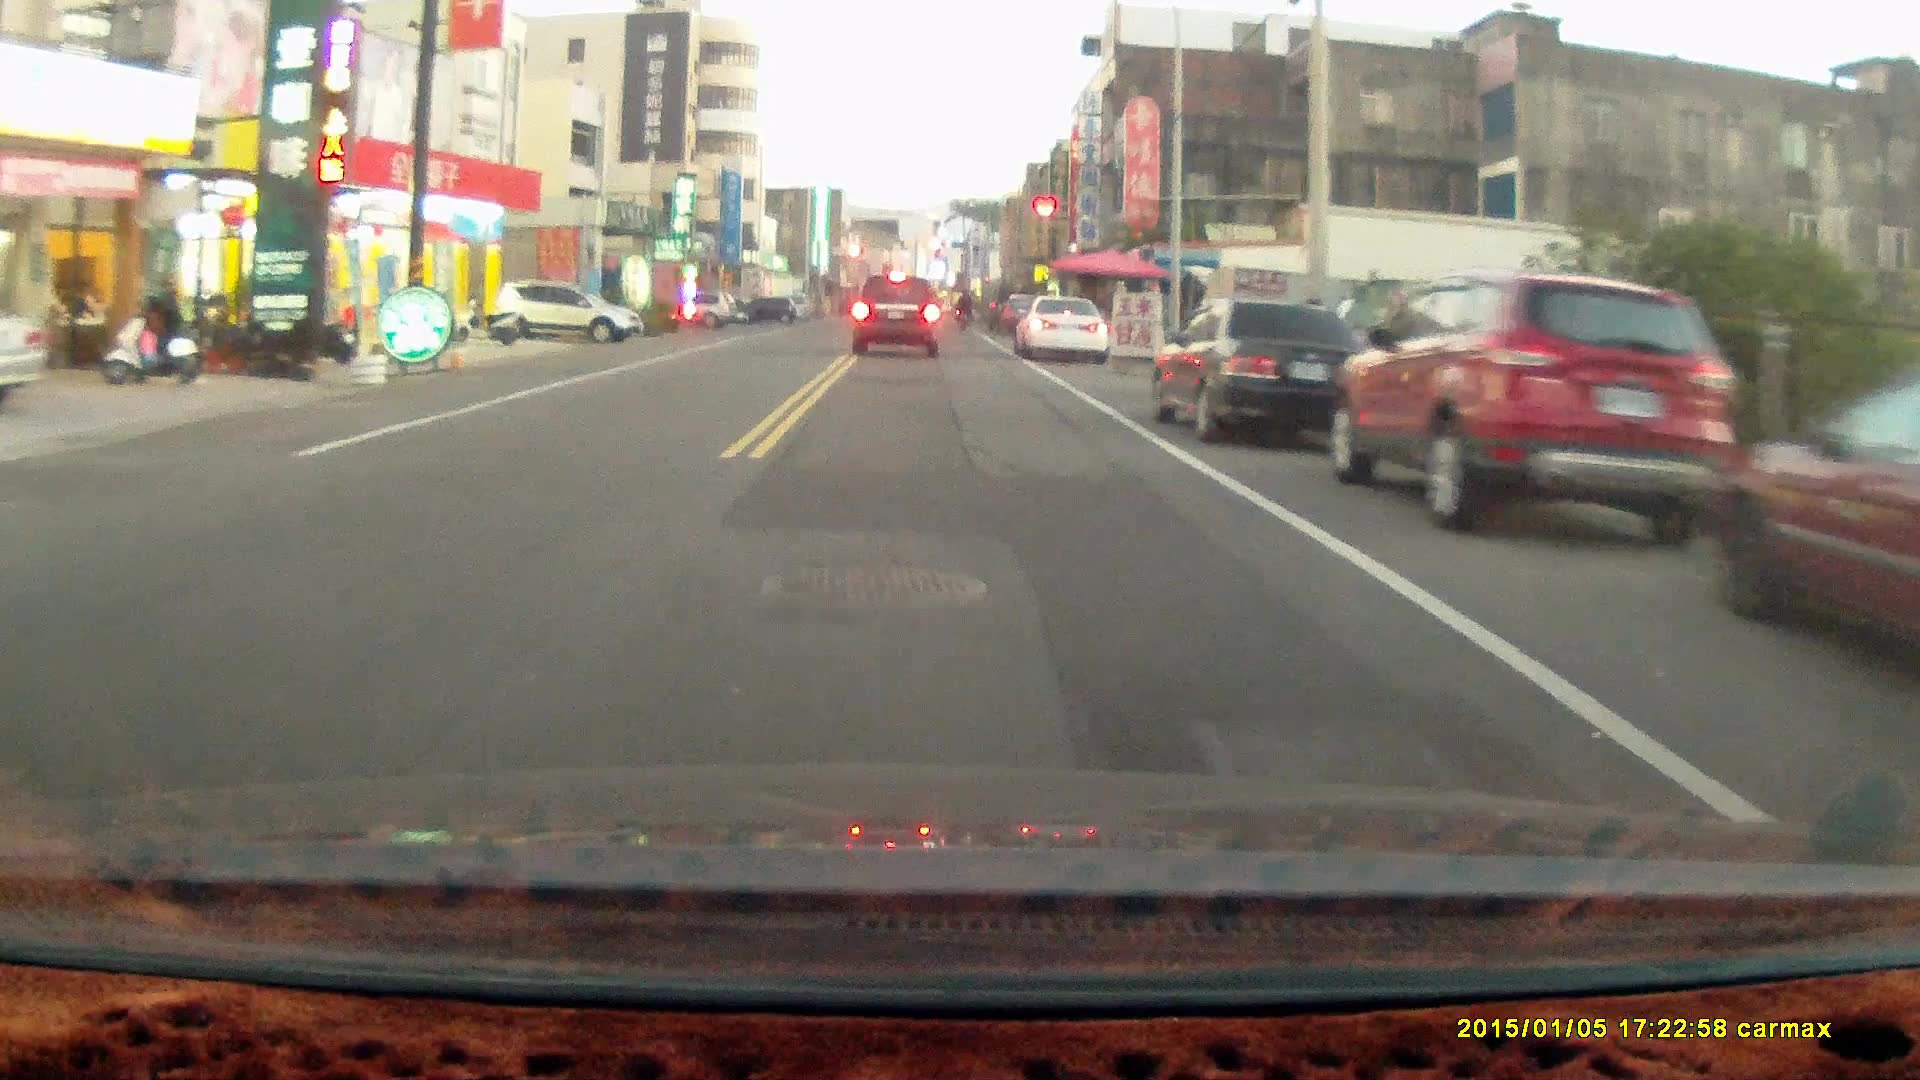vehicle: (1327, 272, 1741, 549), (1146, 297, 1362, 448), (495, 281, 650, 353), (852, 274, 943, 360), (1015, 298, 1113, 368)
